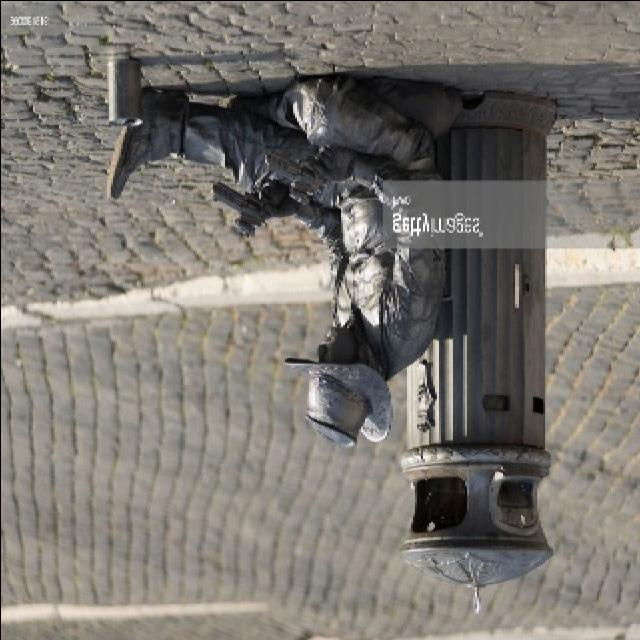handgun: (211, 181, 283, 243)
